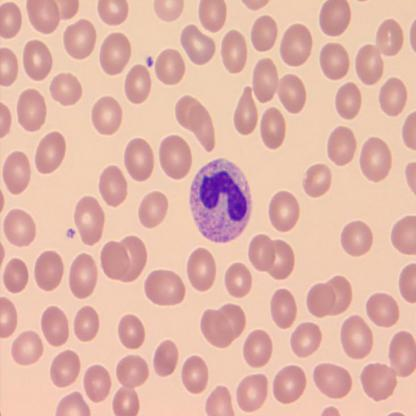Band Neutrophil: (187, 155, 254, 245)
